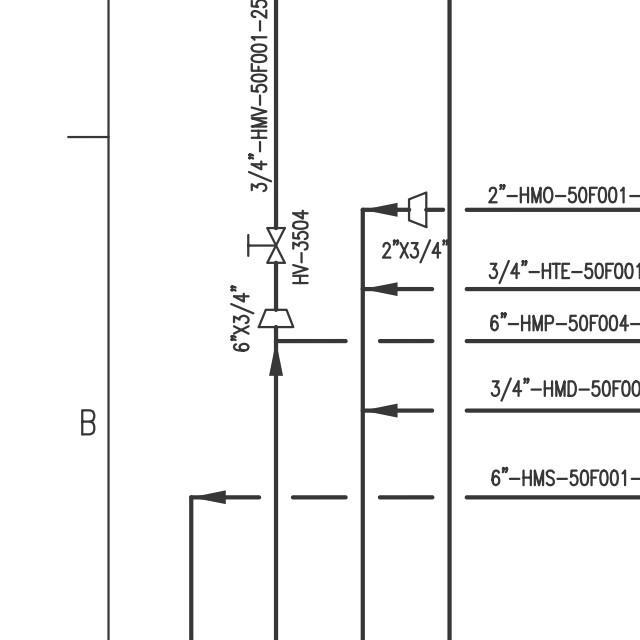HV: (241, 221, 287, 268)
SP: (255, 302, 298, 332), (403, 188, 432, 229)
